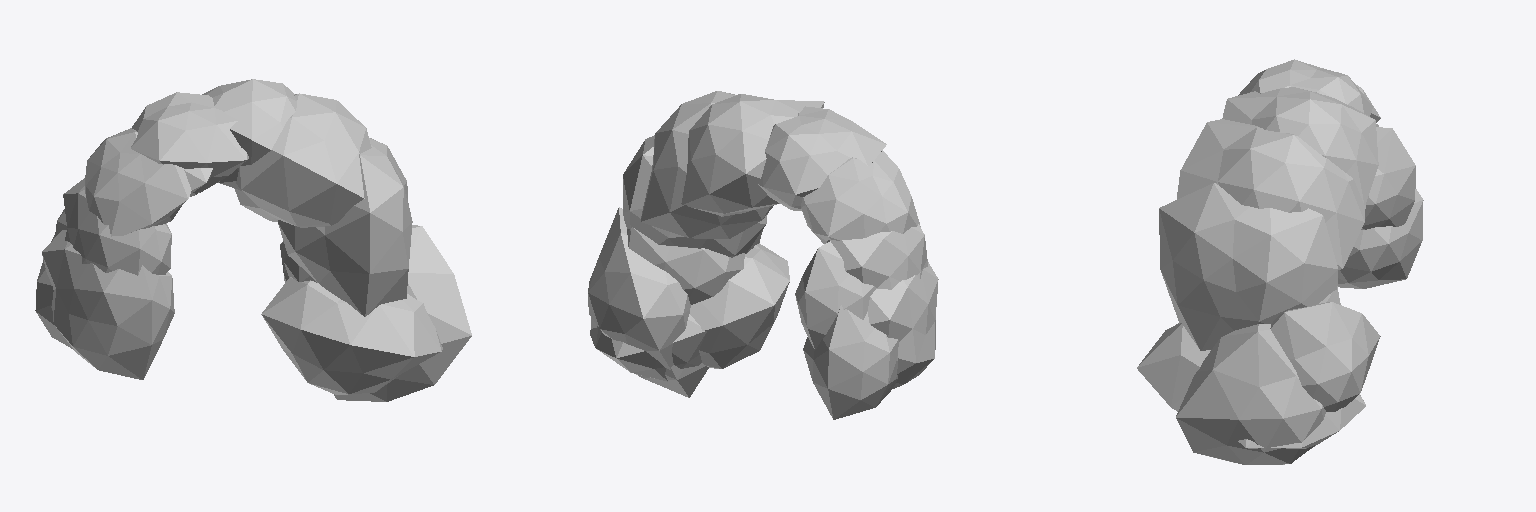
The model's file is arch.obj.
The picture shows the model from 3 angles: view 1: azimuth 30°, elevation 25°; view 2: azimuth 150°, elevation 25°; view 3: azimuth 270°, elevation 25°; orthographic projection.
Parts seen in each view (by area): view 1: Icosphere.001_Icosphere.002, Icosphere.001_Icosphere.001, Icosphere.001_Icosphere.003, Icosphere.001_Icosphere.007, Icosphere.001_Icosphere.005, Icosphere.001_Icosphere.004, Icosphere.001_Icosphere.000, Icosphere.001_Icosphere.006, Icosphere_Icosphere.003, Icosphere_Icosphere.007; view 2: Icosphere_Icosphere.003, Icosphere_Icosphere.000, Icosphere.001_Icosphere.004, Icosphere.001_Icosphere.005, Icosphere.001_Icosphere.002, Icosphere_Icosphere.007, Icosphere.001_Icosphere.003, Icosphere.001_Icosphere.007, Icosphere_Icosphere.006, Icosphere.001_Icosphere.006, Icosphere_Icosphere.002, Icosphere.001_Icosphere.001 (+2 smaller); view 3: Icosphere.001_Icosphere.001, Icosphere.001_Icosphere.000, Icosphere.001_Icosphere.003, Icosphere_Icosphere.000, Icosphere_Icosphere.003, Icosphere_Icosphere.007, Icosphere_Icosphere.006, Icosphere.001_Icosphere.002, Icosphere.001_Icosphere.004, Icosphere_Icosphere.001.
Part boxes in pixels (x1,y1,x2,y2): Icosphere.001_Icosphere.002: (261, 277, 442, 394); Icosphere.001_Icosphere.001: (278, 138, 412, 316); Icosphere.001_Icosphere.003: (234, 93, 371, 227); Icosphere.001_Icosphere.007: (42, 230, 174, 379); Icosphere.001_Icosphere.005: (85, 128, 191, 236); Icosphere.001_Icosphere.004: (131, 92, 248, 192); Icosphere.001_Icosphere.000: (334, 225, 471, 401); Icosphere.001_Icosphere.006: (63, 178, 171, 275); Icosphere_Icosphere.003: (202, 79, 296, 190); Icosphere_Icosphere.007: (35, 235, 73, 349); Icosphere_Icosphere.003: (681, 94, 824, 216); Icosphere_Icosphere.000: (588, 207, 690, 369); Icosphere.001_Icosphere.004: (758, 106, 886, 210); Icosphere.001_Icosphere.005: (801, 150, 920, 243); Icosphere.001_Icosphere.002: (690, 243, 789, 368); Icosphere_Icosphere.007: (803, 305, 898, 419); Icosphere.001_Icosphere.003: (641, 91, 773, 238); Icosphere.001_Icosphere.007: (867, 262, 938, 388); Icosphere_Icosphere.006: (795, 241, 875, 349); Icosphere.001_Icosphere.006: (827, 224, 927, 289); Icosphere_Icosphere.002: (627, 227, 744, 304); Icosphere.001_Icosphere.001: (623, 135, 767, 257); Icosphere.001_Icosphere.001: (1159, 183, 1337, 350); Icosphere.001_Icosphere.000: (1176, 324, 1325, 464); Icosphere.001_Icosphere.003: (1177, 119, 1365, 269); Icosphere_Icosphere.000: (1270, 302, 1380, 411); Icosphere_Icosphere.003: (1222, 87, 1378, 204); Icosphere_Icosphere.007: (1338, 189, 1423, 288); Icosphere_Icosphere.006: (1361, 127, 1415, 229); Icosphere.001_Icosphere.002: (1137, 323, 1210, 411); Icosphere.001_Icosphere.004: (1238, 59, 1372, 115); Icosphere_Icosphere.001: (1238, 394, 1365, 448).
Bounding box in the file's own units: 8.1 × 7.18 × 5.74.